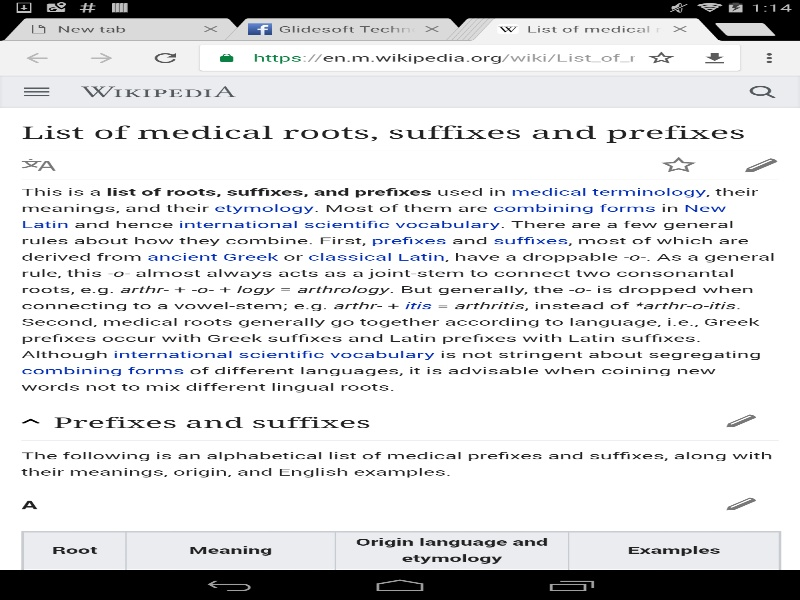Button: (5, 40, 69, 75), (69, 40, 133, 75), (133, 40, 197, 75), (742, 40, 800, 75), (637, 156, 720, 173), (634, 45, 688, 70), (200, 45, 253, 70), (688, 45, 741, 70), (725, 84, 800, 99)
Input: (253, 46, 634, 68)
